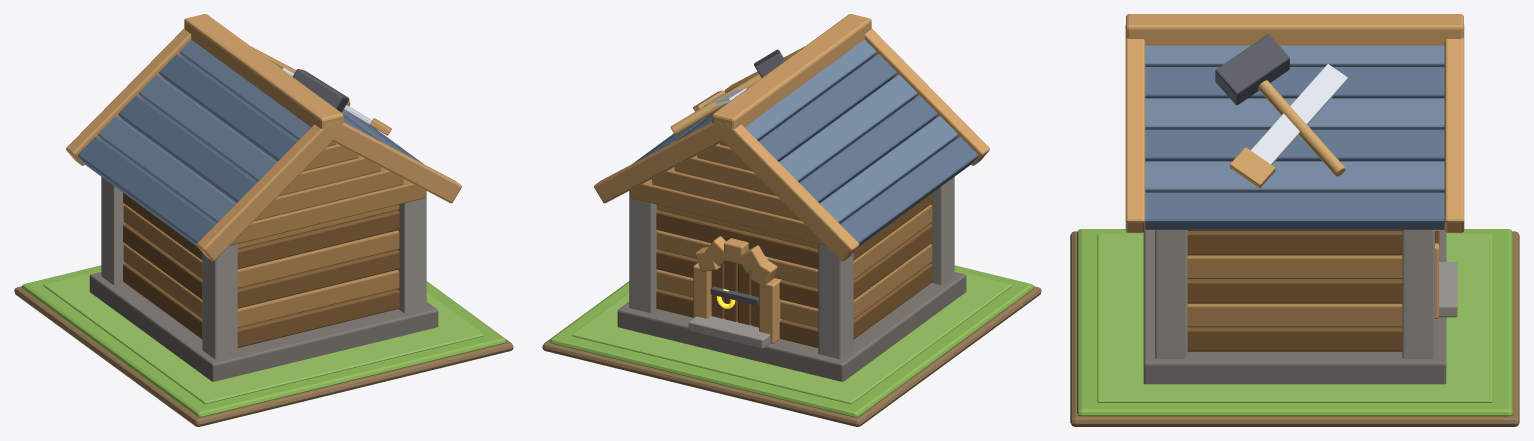
Rendered from builder_barracks.glb.
3 renders of one model, left to right at view 1: azimuth 30°, elevation 25°; view 2: azimuth 150°, elevation 25°; view 3: azimuth 270°, elevation 25°, orthographic. The views are drawn at different scales.
Visible parts, largest first — view 1: Base_Inner, BB_Foundation, Base_Grass, RidgeBeam, Base_Dirt, WallPlank_0, WallPlank_2, WallPlank_3, WallPlank_1, RoofSlope_-1_5, Bargeboard_-1_-1, RoofSlope_-1_1 (+16 smaller); view 2: Base_Inner, BB_Foundation, Base_Grass, RidgeBeam, Base_Dirt, RoofSlope_-1_5, Bargeboard_1_-1, RoofSlope_-1_1, RoofSlope_-1_4, RoofSlope_-1_2, RoofSlope_-1_3, WallPlank_4 (+26 smaller); view 3: Base_Inner, Base_Grass, BB_Foundation, RoofSlope_1_5, RidgeBeam, RoofSlope_1_4, RoofSlope_1_2, RoofSlope_1_3, Base_Dirt, RoofSlope_1_1, RoofSlope_1_0, WallPlank_0 (+13 smaller).
Boxes of the visible parts, left/top/right/bottom form: Base_Inner: left=43, top=270, right=484, bottom=404; BB_Foundation: left=89, top=272, right=438, bottom=381; Base_Grass: left=22, top=265, right=505, bottom=417; RidgeBeam: left=184, top=14, right=343, bottom=128; Base_Dirt: left=14, top=281, right=513, bottom=426; WallPlank_0: left=123, top=263, right=399, bottom=347; WallPlank_2: left=123, top=224, right=399, bottom=308; WallPlank_3: left=123, top=204, right=399, bottom=288; WallPlank_1: left=123, top=244, right=399, bottom=327; RoofSlope_-1_5: left=77, top=136, right=215, bottom=246; Bargeboard_-1_-1: left=196, top=123, right=336, bottom=261; RoofSlope_-1_1: left=159, top=54, right=297, bottom=161; Base_Inner: left=571, top=270, right=1012, bottom=404; BB_Foundation: left=617, top=272, right=966, bottom=381; Base_Grass: left=550, top=265, right=1033, bottom=417; RidgeBeam: left=712, top=14, right=871, bottom=128; Base_Dirt: left=542, top=281, right=1041, bottom=426; RoofSlope_-1_5: left=840, top=136, right=978, bottom=246; Bargeboard_1_-1: left=718, top=123, right=859, bottom=261; RoofSlope_-1_1: left=758, top=54, right=896, bottom=161; RoofSlope_-1_4: left=819, top=116, right=957, bottom=223; RoofSlope_-1_2: left=779, top=74, right=917, bottom=182; RoofSlope_-1_3: left=799, top=95, right=937, bottom=202; WallPlank_4: left=656, top=193, right=932, bottom=268; Base_Inner: left=1097, top=234, right=1492, bottom=402; Base_Grass: left=1077, top=229, right=1512, bottom=416; BB_Foundation: left=1143, top=230, right=1446, bottom=384; RoofSlope_1_5: left=1145, top=192, right=1444, bottom=229; RidgeBeam: left=1126, top=14, right=1463, bottom=45; RoofSlope_1_4: left=1145, top=161, right=1444, bottom=192; RoofSlope_1_2: left=1145, top=98, right=1444, bottom=129; RoofSlope_1_3: left=1145, top=129, right=1444, bottom=161; Base_Dirt: left=1070, top=231, right=1519, bottom=426; RoofSlope_1_1: left=1145, top=67, right=1444, bottom=98; RoofSlope_1_0: left=1145, top=45, right=1444, bottom=66; WallPlank_0: left=1187, top=327, right=1402, bottom=351.
Bounding box in the file's own units: 2.76 × 2.13 × 2.76.
